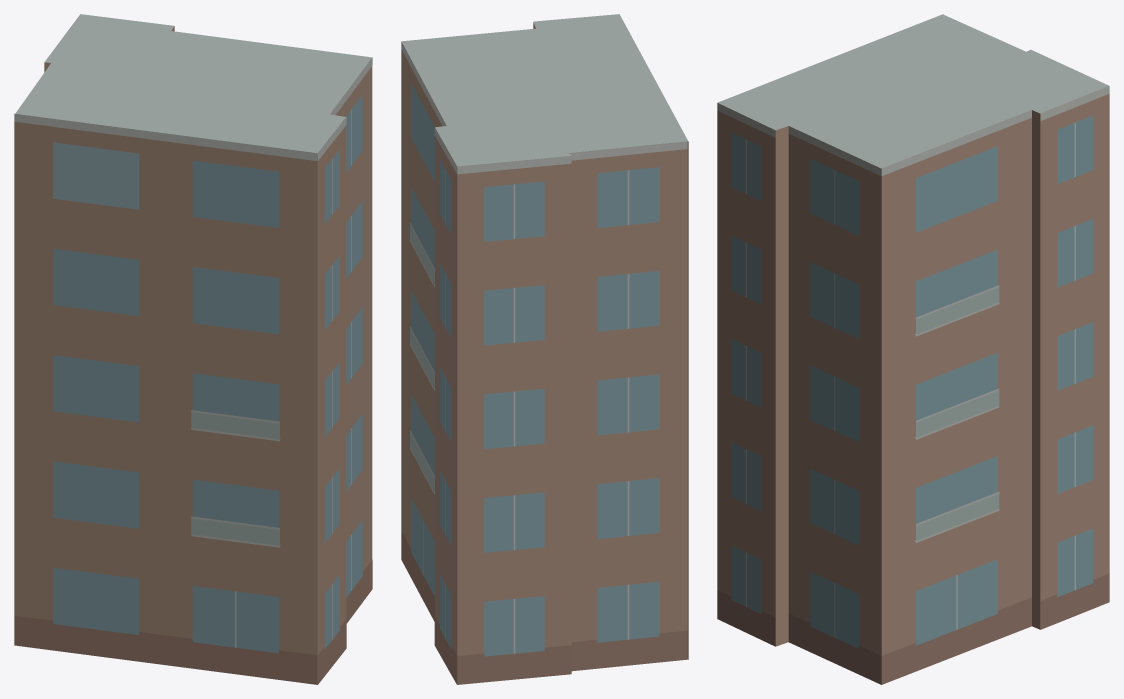
File: survey-upis-32922680.glb
3 views of the same model, side by side, from view 1: azimuth 30°, elevation 25°; view 2: azimuth 150°, elevation 25°; view 3: azimuth 270°, elevation 25° (orthographic). The views are drawn at different scales.
Parts seen in each view (by area): view 1: survey-upis-32922680.tmp; view 2: survey-upis-32922680.tmp; view 3: survey-upis-32922680.tmp.
Part boxes in pixels (left/top/right/bottom): survey-upis-32922680.tmp: left=14, top=14, right=372, bottom=684; survey-upis-32922680.tmp: left=401, top=14, right=688, bottom=684; survey-upis-32922680.tmp: left=717, top=14, right=1109, bottom=684.
Size of the model in its own units: 10.48 by 16.3 by 11.23.
